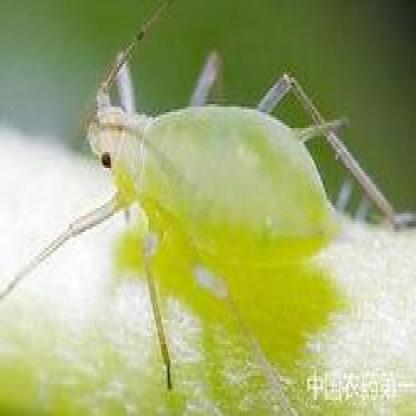aphid: (53, 1, 400, 370)
